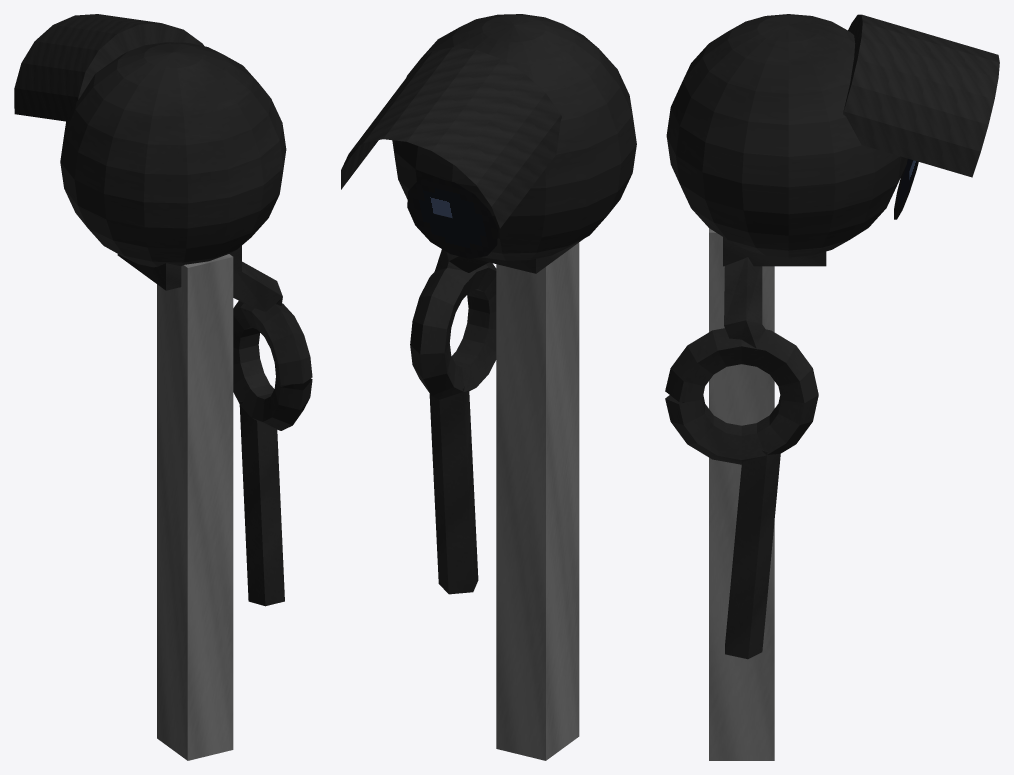
The model's file is trafficpolecamera_tiny_cam.obj.
3 renders of one model, left to right at view 1: azimuth 30°, elevation 25°; view 2: azimuth 150°, elevation 25°; view 3: azimuth 270°, elevation 25°, orthographic. The views are drawn at different scales.
Visible parts, largest first — view 1: miovision360; view 2: miovision360; view 3: miovision360.
Boxes of the visible parts, box(x1,y1,x2,y2) form: miovision360: box(14, 14, 312, 760); miovision360: box(341, 14, 636, 760); miovision360: box(665, 14, 999, 760).
Size of the model in its own units: 0.26 by 0.853 by 0.3562.
